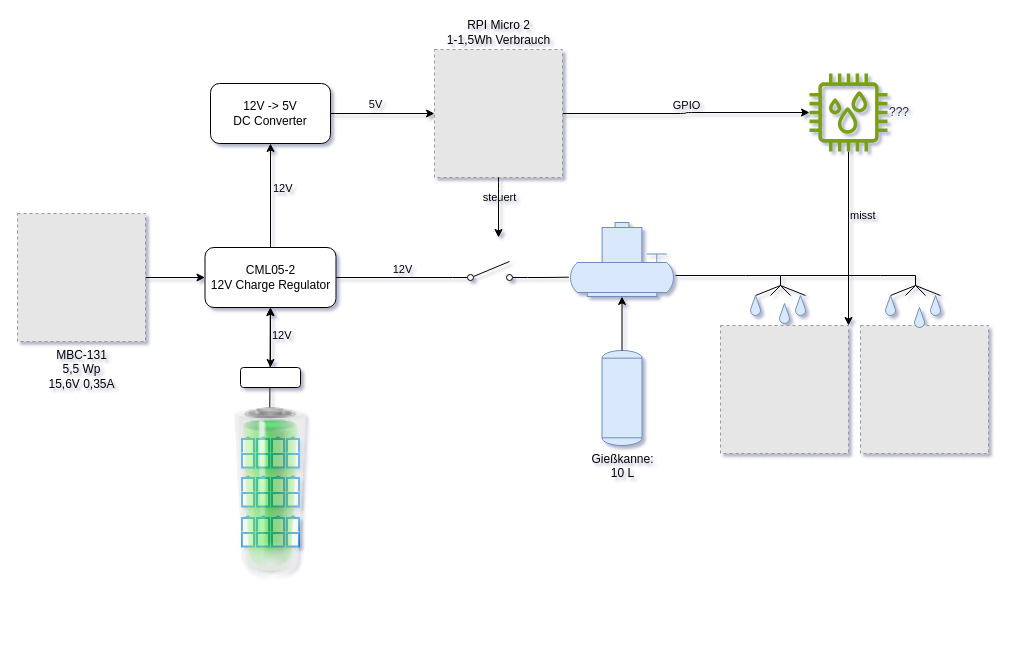
This 1012x665 diagram has some shape labels left out. Grey dashed boxes stand in for pictures. Here are the shapes that lost their labels. From the top down, the box of each, then its label:
(570, 222, 674, 296): 12V 4,8W 240L/H Pumpe
(240, 366, 300, 388): BMS
(187, 407, 353, 577): 3S4P 18650 4x1400mAh =4,8Ah
